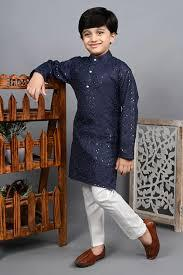Human: (29, 6, 163, 263)
